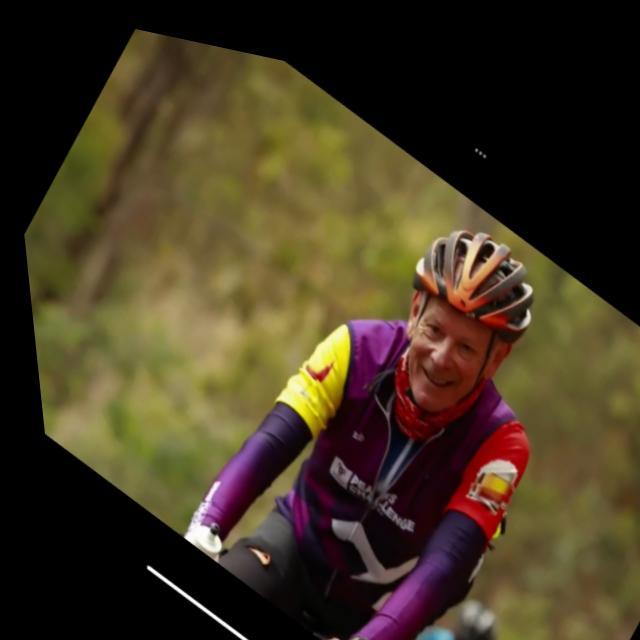Helmet: (393, 208, 548, 428)
